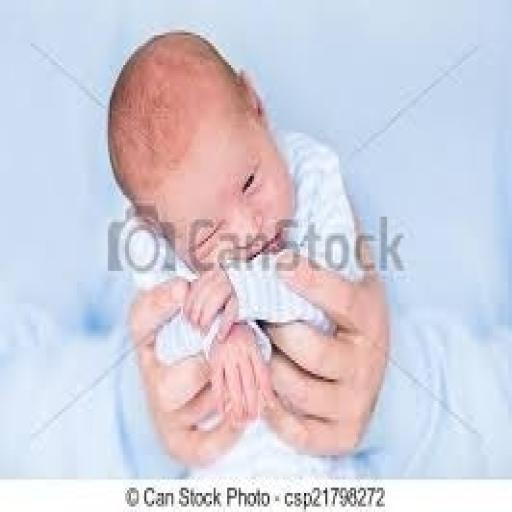sleeping: (104, 27, 393, 469)
